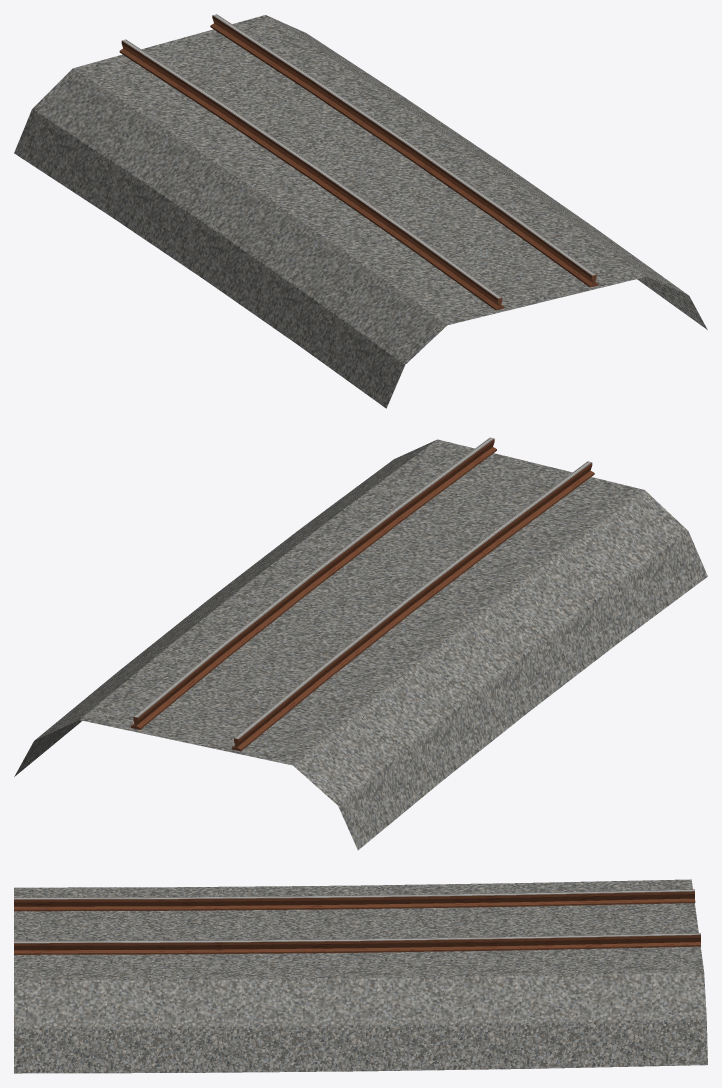
Rendered from rail_track_curve_r175_10m_l_v2_bed.glb.
3 renders of one model, top to bottom at view 1: azimuth 30°, elevation 25°; view 2: azimuth 150°, elevation 25°; view 3: azimuth 270°, elevation 25°, orthographic. The views are drawn at different scales.
Parts seen in each view (by area): view 1: rail_track_curve_r175_10m_l_v2_bed; view 2: rail_track_curve_r175_10m_l_v2_bed; view 3: rail_track_curve_r175_10m_l_v2_bed.
Boxes of the visible parts, x1,y1,x2,y2 form: rail_track_curve_r175_10m_l_v2_bed: (14, 14, 707, 408); rail_track_curve_r175_10m_l_v2_bed: (14, 437, 707, 849); rail_track_curve_r175_10m_l_v2_bed: (14, 879, 707, 1073).
Size of what is drawn, in the model's own units: 5.43 by 1.27 by 10.14.
2 materials, 2 textured.
